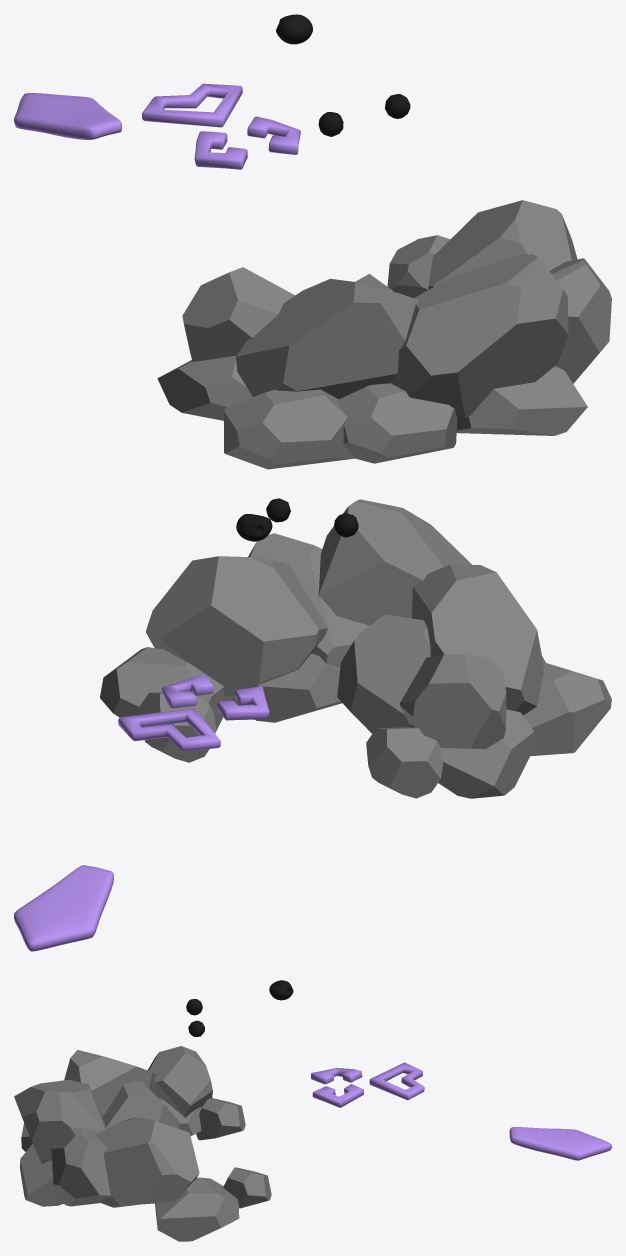
File: sculpture_11.glb
The picture shows the model from 3 angles, top to bottom: view 1: azimuth 30°, elevation 25°; view 2: azimuth 150°, elevation 25°; view 3: azimuth 270°, elevation 25°; orthographic projection. The views are drawn at different scales.
Visible parts, largest first — view 1: SCL_01_03; view 2: SCL_01_03; view 3: SCL_01_03.
Part boxes in pixels (x1,y1,x2,y2): SCL_01_03: [14, 14, 611, 469]; SCL_01_03: [14, 498, 611, 951]; SCL_01_03: [14, 980, 611, 1241].
Size of the model in its own units: 0.7768 by 0.5164 by 1.45.
